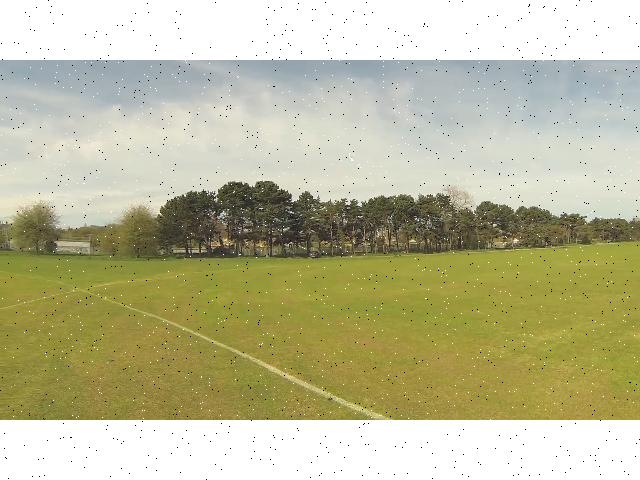Anti-Drone: (342, 142, 362, 170)
